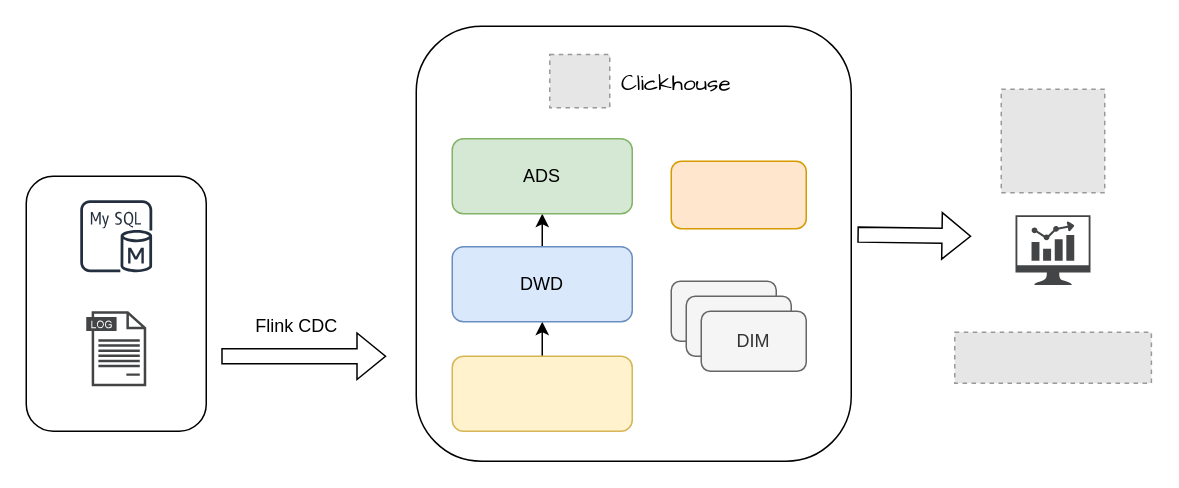
The diagram is 1179 pixels wide and 488 high, and some of its shapes have lost their labels. Grey dashed boxes stand in for pictures. The shapes that lost their labels are listed below. From the top down, each one's box as (x1, y1, x2, y2) in pixels, then its label:
(670, 160, 806, 229): 调度系统
(451, 355, 632, 431): ODS
